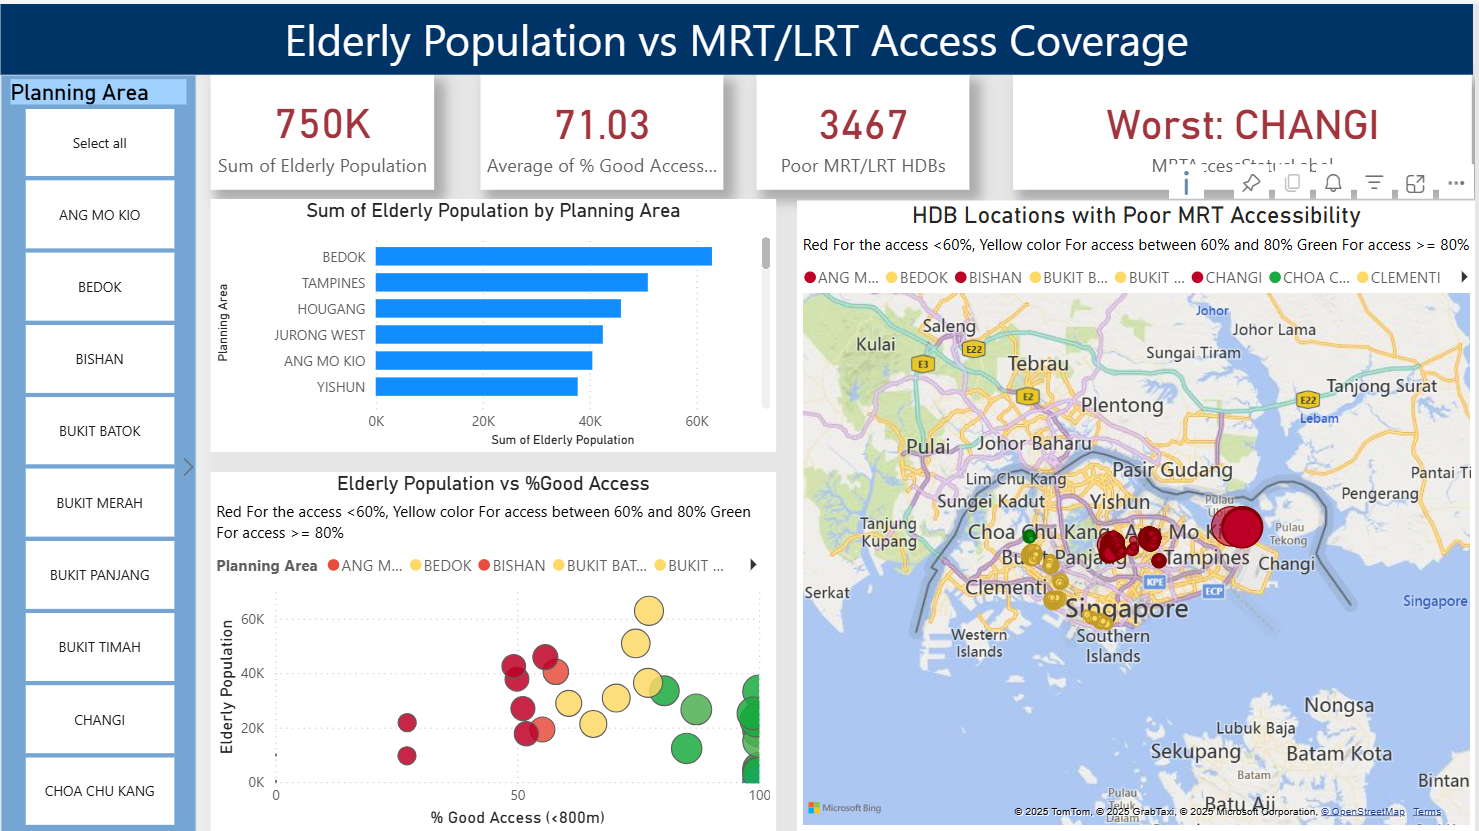

The dashboard page shown, as its layout file describes it:
{"tool":"powerbi","page":{"name":"final_dashboard","canvas":[1280,720],"ordinal":0},"visuals":[{"type":"card","fields":{"Values":["Sum(elderly_transport_gap_analysis (4).Elderly Population)"]},"box":[183.2,60.6,193.8,99.9],"z":0},{"type":"card","fields":{"Values":["Avg(elderly_transport_gap_analysis (4).% Good Access (<800m))"]},"box":[417.9,60.6,210.5,99.9],"z":1000},{"type":"card","fields":{"Values":["hdb_blocks_poor_mrt_access.PoorMRTHDBs"]},"box":[657.2,60.6,184.7,99.9],"z":2000},{"type":"card","fields":{"Values":["elderly_transport_gap_analysis.MRTAccessStatusLabel"]},"box":[879.8,60.6,398.2,99.9],"z":3000},{"type":"barChart","fields":{"Y":["Sum(elderly_transport_gap_analysis.Elderly Population)"],"Category":["elderly_transport_gap_analysis.PLN_AREA_N"]},"box":[183.2,169.6,490.6,219.6],"z":4000},{"type":"map","title":"HDB Locations with Poor MRT Accessibility","fields":{"Series":["hdb_blocks_poor_mrt_access.PLN_AREA_N"],"Y":["hdb_blocks_poor_mrt_access.lat"],"X":["hdb_blocks_poor_mrt_access.lng"],"Size":["Sum(hdb_blocks_poor_mrt_access.min_dist_mrt_m)"]},"box":[692,171.1,589,546.6],"z":5000},{"type":"scatterChart","title":"Elderly Population vs %Good Access","fields":{"X":["elderly_transport_gap_analysis.% Good Access (<800m)"],"Y":["elderly_transport_gap_analysis.Elderly Population"],"Series":["elderly_transport_gap_analysis.PLN_AREA_N"],"Size":["Avg(elderly_transport_gap_analysis.% Good Access (<800m))"]},"box":[183.2,405.8,490.6,311.9],"z":6000},{"type":"slicer","fields":{"Values":["elderly_transport_gap_analysis.PLN_AREA_N"]},"box":[1,61,170,657.2],"z":7000},{"type":"textbox","box":[1.4,0,1277.1,61.4],"z":8000}]}

Visuals, with their boxes in screenshot pixels (x1, y1, x2, y2), scaled from the page's 1280x720 canvas onto the 1479x831 screenshot:
card - Sum(elderly_transport_gap_analysis (4).Elderly Population): (x1=212, y1=70, x2=436, y2=185)
card - Avg(elderly_transport_gap_analysis (4).% Good Access (<800m)): (x1=483, y1=70, x2=726, y2=185)
card - hdb_blocks_poor_mrt_access.PoorMRTHDBs: (x1=759, y1=70, x2=973, y2=185)
card - elderly_transport_gap_analysis.MRTAccessStatusLabel: (x1=1017, y1=70, x2=1477, y2=185)
barChart - Sum(elderly_transport_gap_analysis.Elderly Population) x elderly_transport_gap_analysis.PLN_AREA_N: (x1=212, y1=196, x2=779, y2=449)
"HDB Locations with Poor MRT Accessibility" map: (x1=800, y1=197, x2=1478, y2=828)
"Elderly Population vs %Good Access" scatterChart: (x1=212, y1=468, x2=779, y2=828)
slicer - elderly_transport_gap_analysis.PLN_AREA_N: (x1=1, y1=70, x2=198, y2=829)
textbox: (x1=2, y1=0, x2=1477, y2=71)
